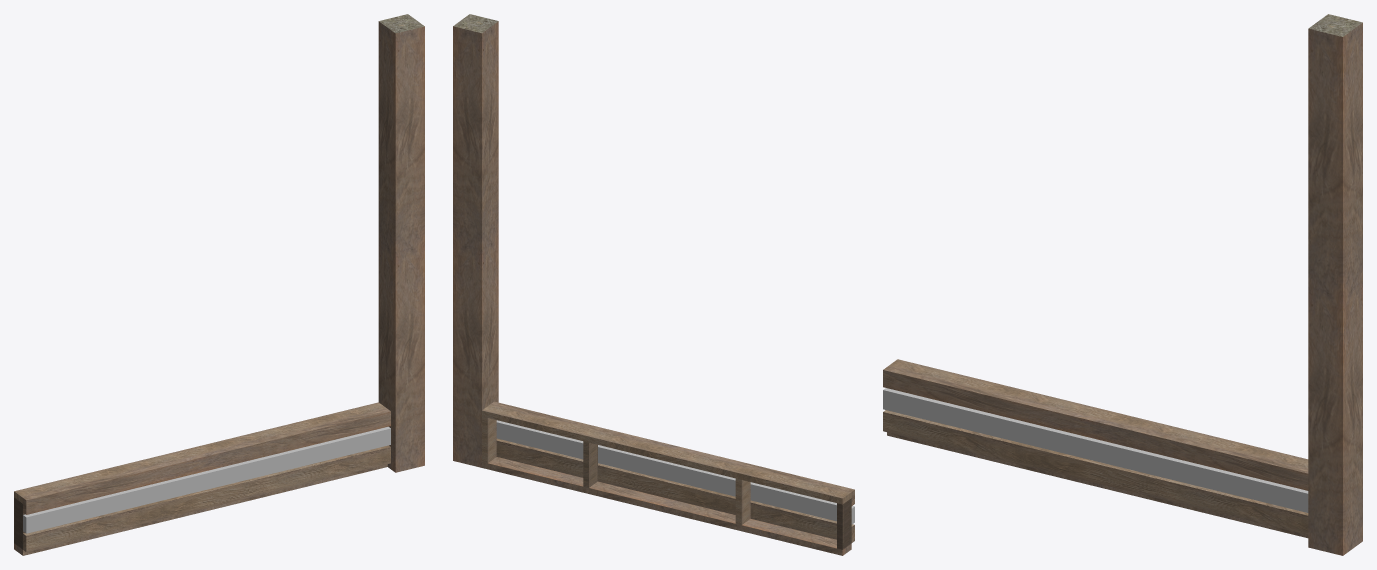
Rendered from WallFloorDividerD.fbx.
The picture shows the model from 3 angles, left to right: view 1: azimuth 30°, elevation 25°; view 2: azimuth 150°, elevation 25°; view 3: azimuth 330°, elevation 25°; orthographic projection. The views are drawn at different scales.
Visible parts, largest first — view 1: WallFloorDividerD; view 2: WallFloorDividerD; view 3: WallFloorDividerD.
Boxes of the visible parts, box(x1,y1,x2,y2) form: WallFloorDividerD: box(14, 14, 424, 555); WallFloorDividerD: box(453, 14, 854, 555); WallFloorDividerD: box(883, 14, 1362, 555).
Bounding box in the file's own units: 404 × 431 × 30.09.
